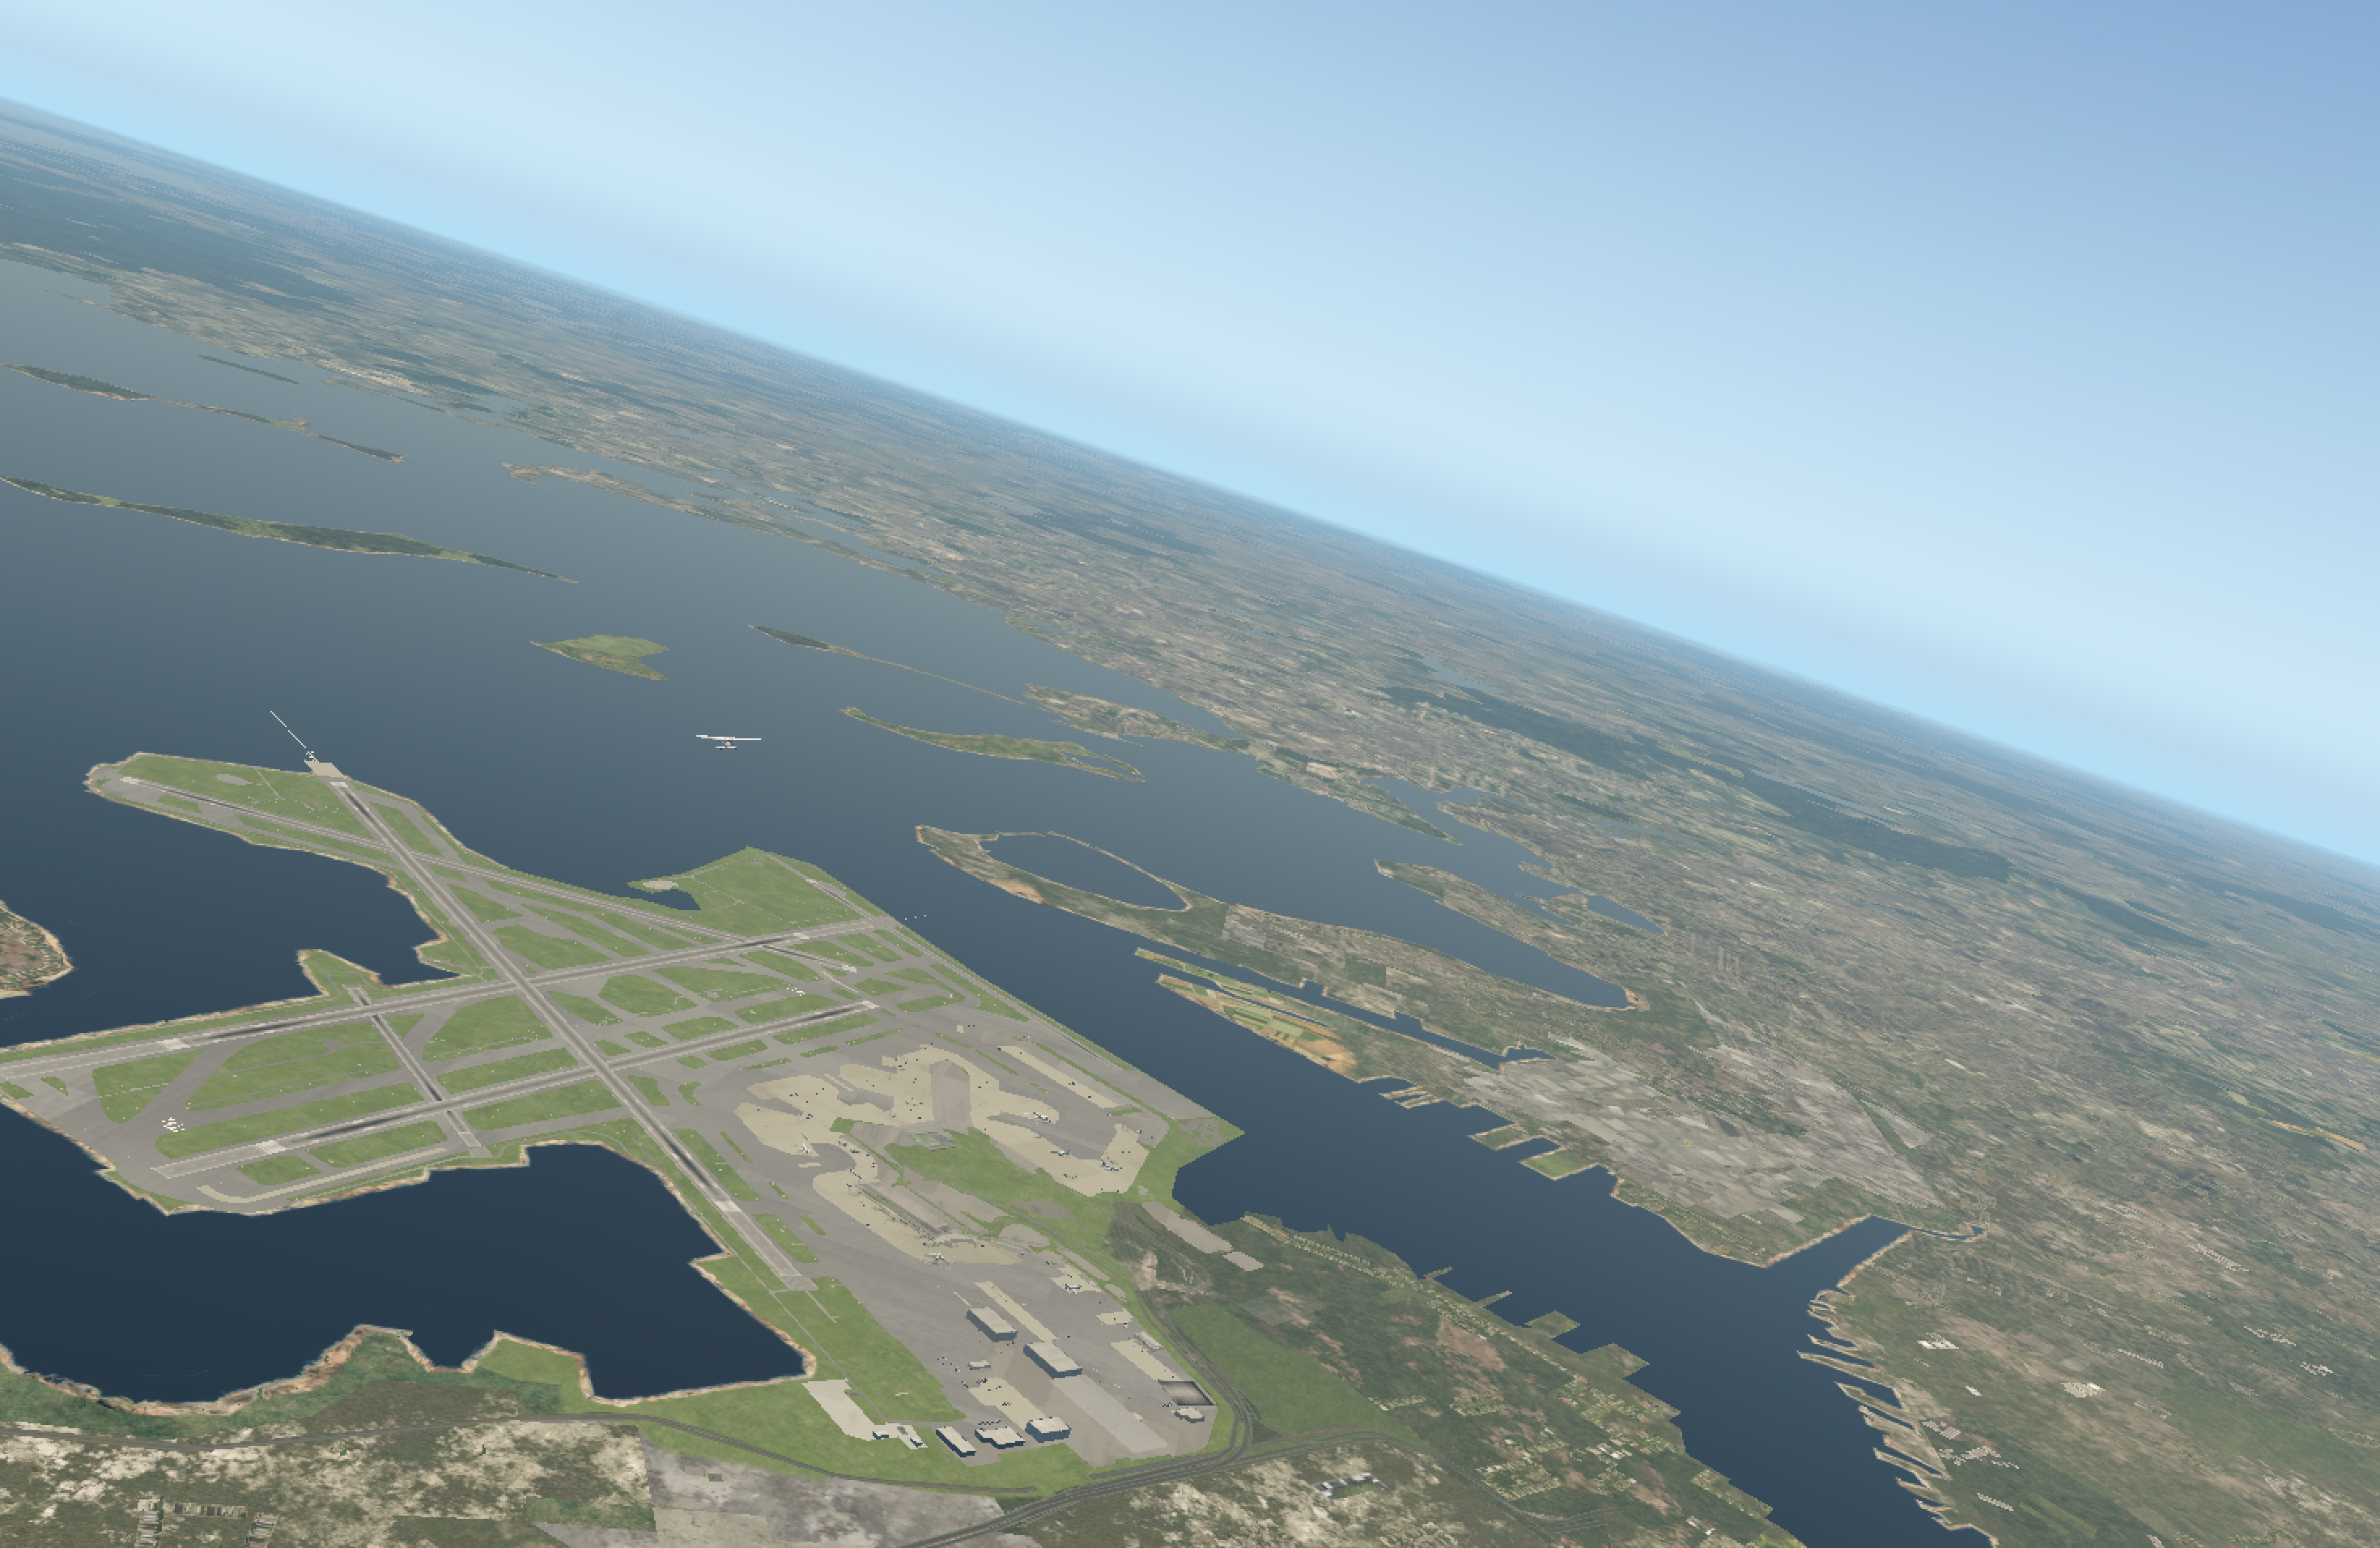aircraft: (706, 732, 751, 750)
